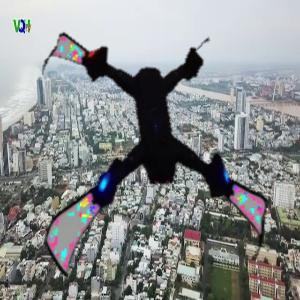drone: (34, 31, 287, 284)
